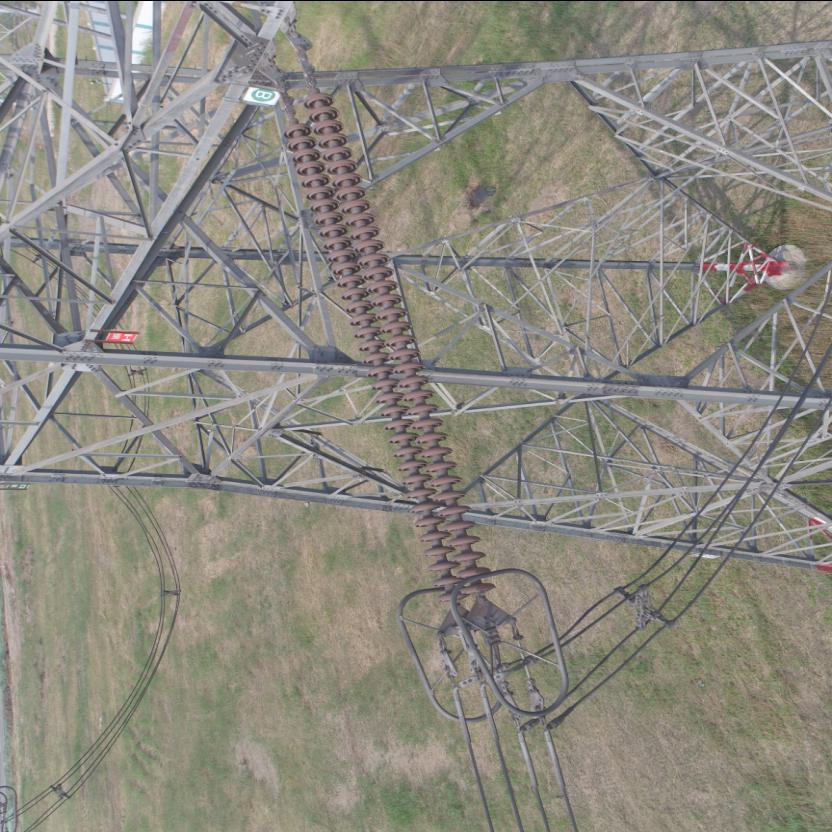insulator: (274, 63, 498, 614)
